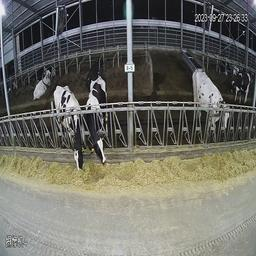cow: (195, 69, 238, 143), (52, 84, 85, 170), (87, 77, 109, 164), (229, 71, 249, 105), (32, 70, 53, 99), (86, 58, 103, 90)
